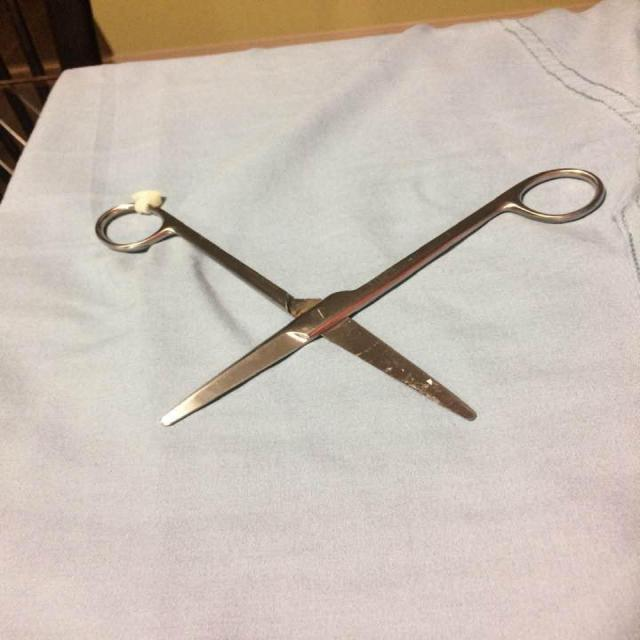Mayo_metz: (89, 162, 607, 432)
